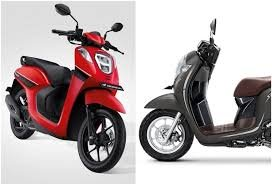motor: (3, 26, 131, 170), (145, 36, 272, 176)
